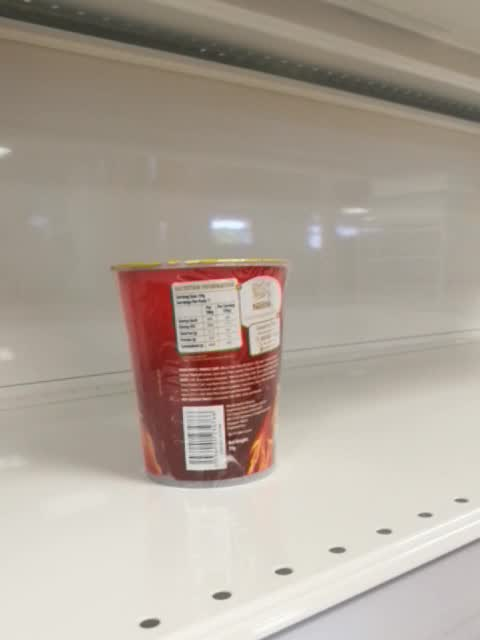maggi: (110, 259, 289, 489)
